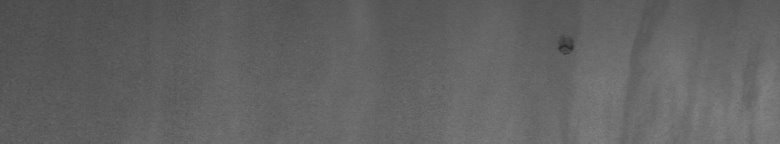fi: (553, 32, 580, 60)
